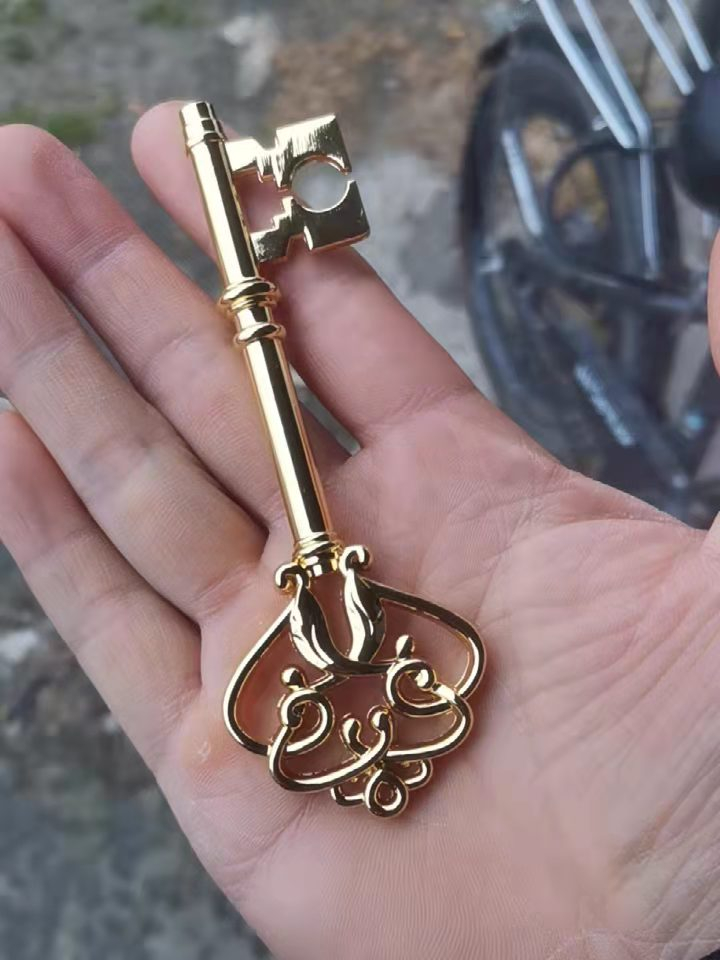key: (168, 97, 493, 818)
